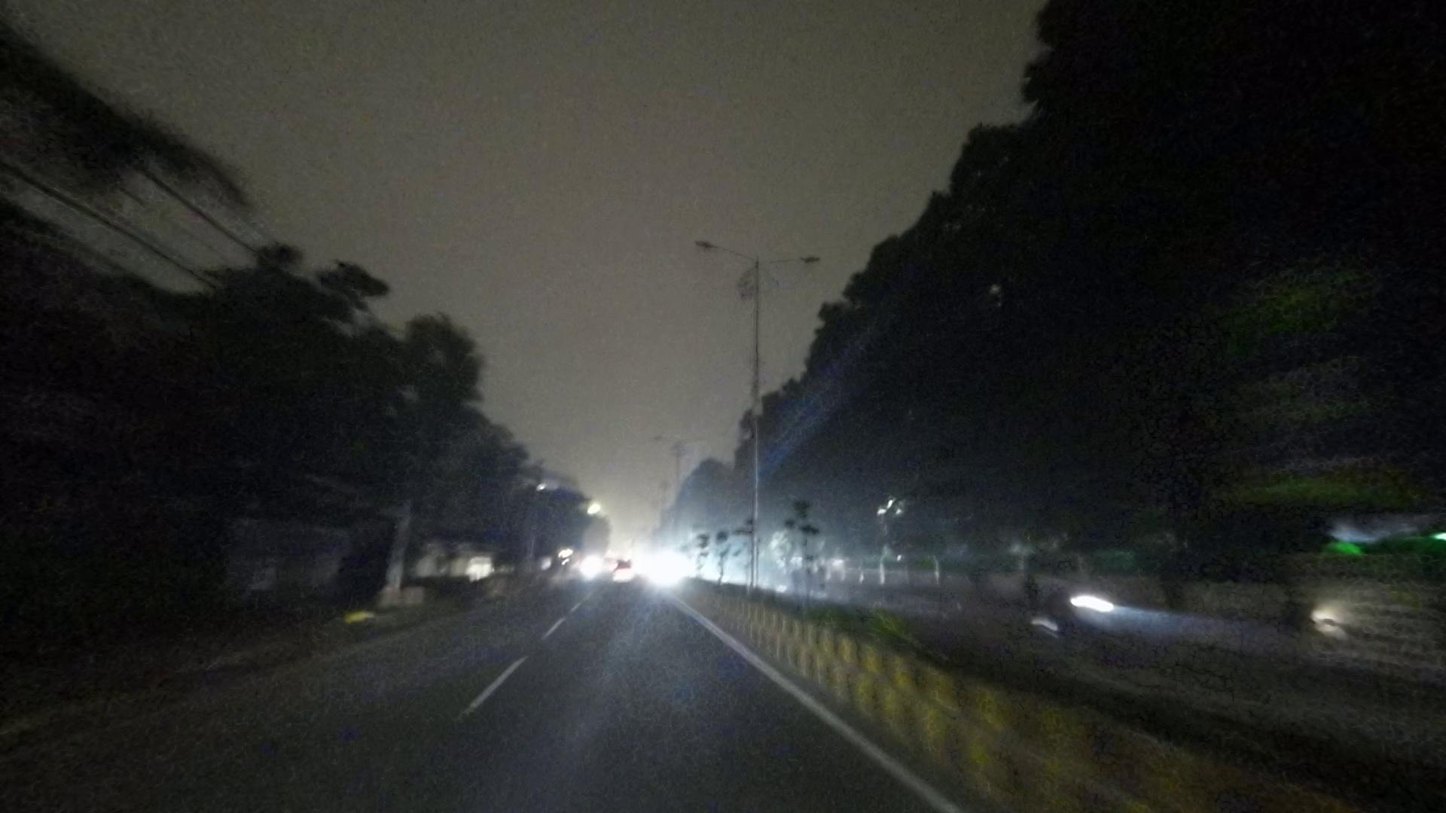streetlight: (693, 235, 755, 262), (760, 253, 824, 269)
